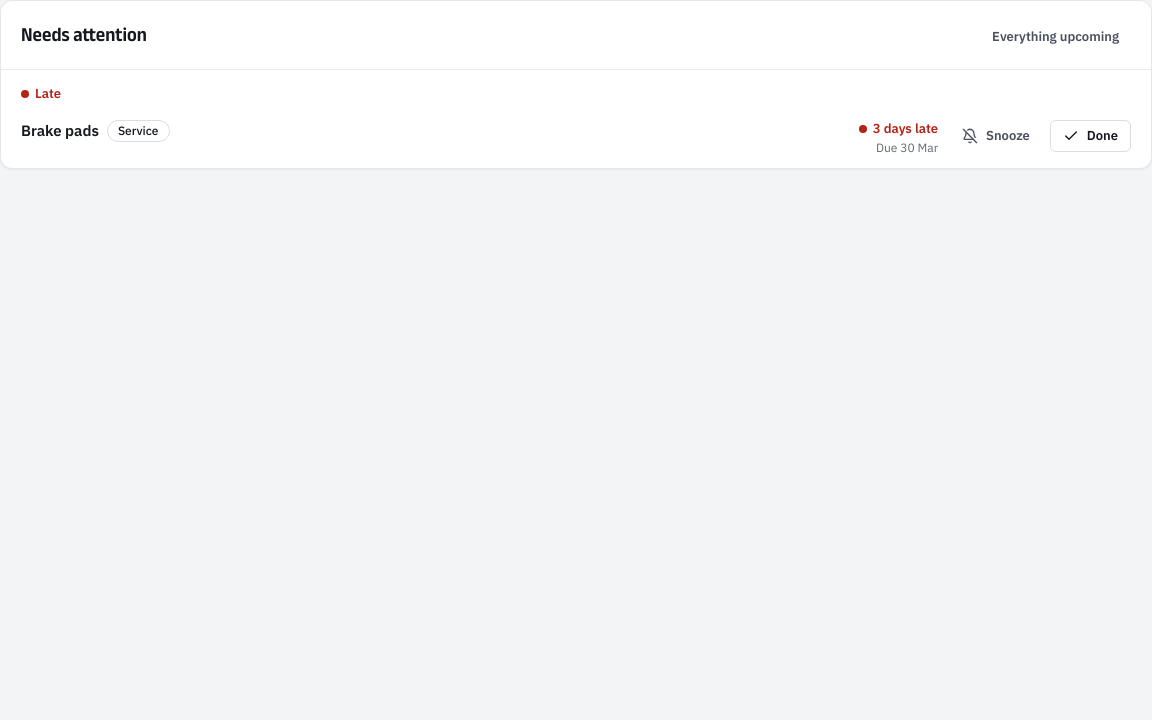
AttentionQueue › opens the shared Snooze from a reminder row
Click the button with aria-label "Snooze Brake pads": (996, 136) [950,120,1042,152]
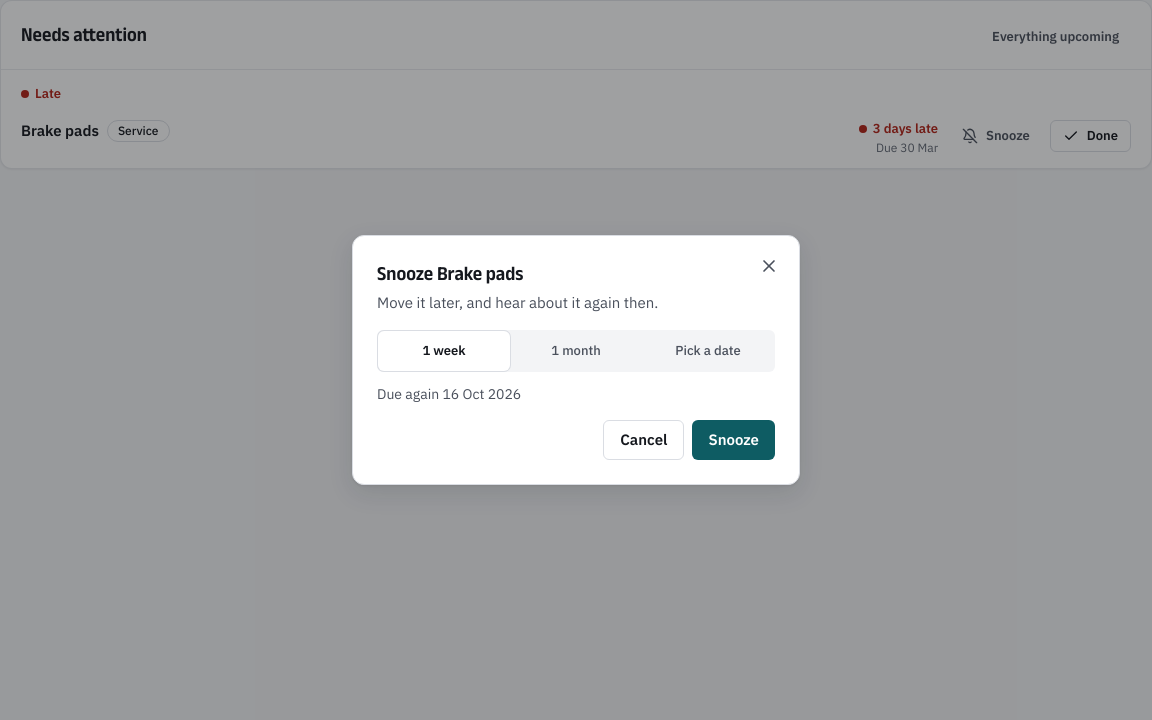
Check: the radio button labelled "1 week" is checked, box [380,333,508,369]
Check: the radio button labelled "1 month" is shown, box [512,333,640,369]
Check: the radio button labelled "Pick a date" is shown, box [644,333,772,369]
